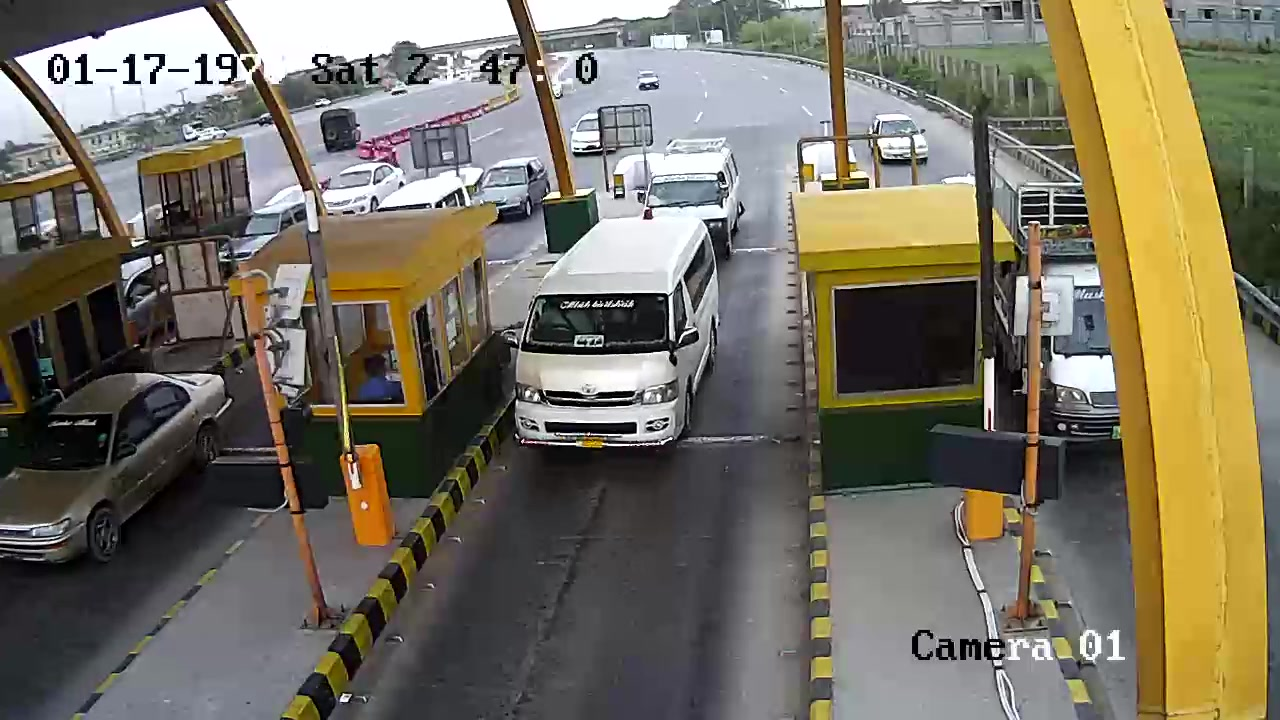F2: (500, 214, 722, 456)
